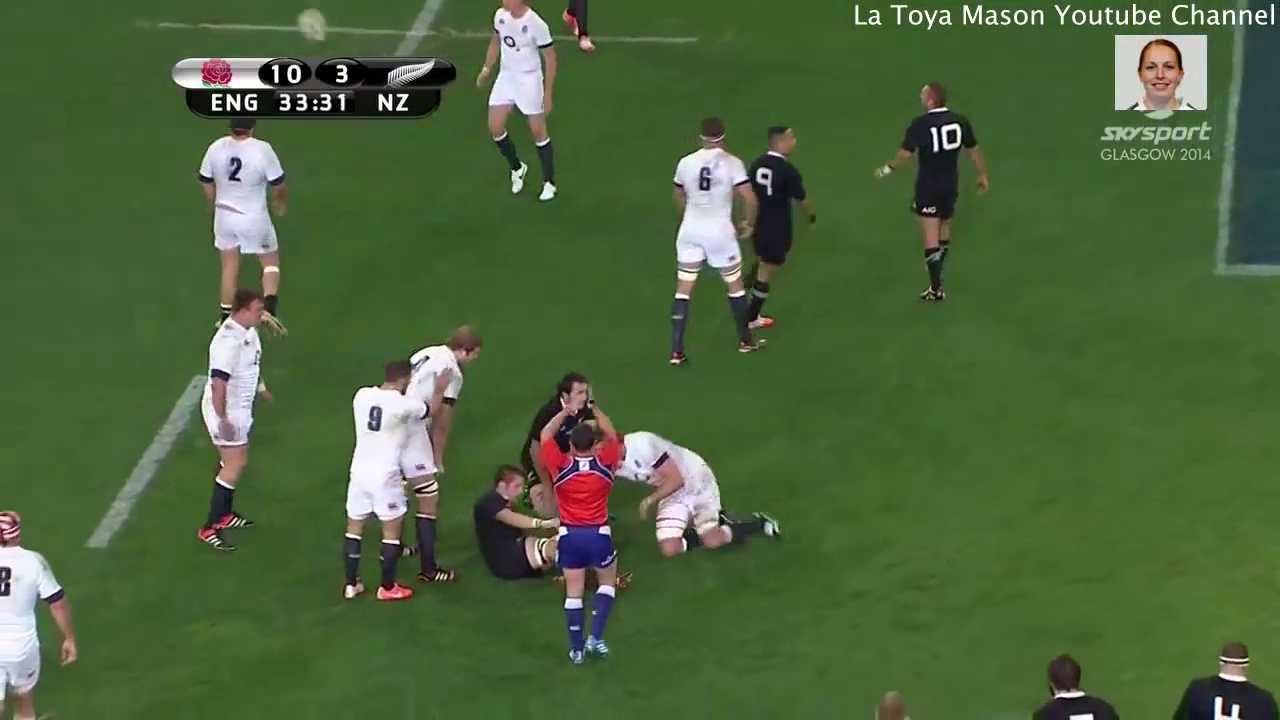player: (863, 75, 996, 318), (651, 109, 777, 360), (534, 394, 630, 677), (612, 417, 789, 560), (338, 355, 436, 604), (185, 118, 297, 329), (401, 320, 488, 588), (197, 284, 278, 560), (739, 112, 817, 336), (1, 502, 78, 720), (469, 457, 569, 580), (1157, 644, 1280, 720), (1020, 651, 1127, 720)
